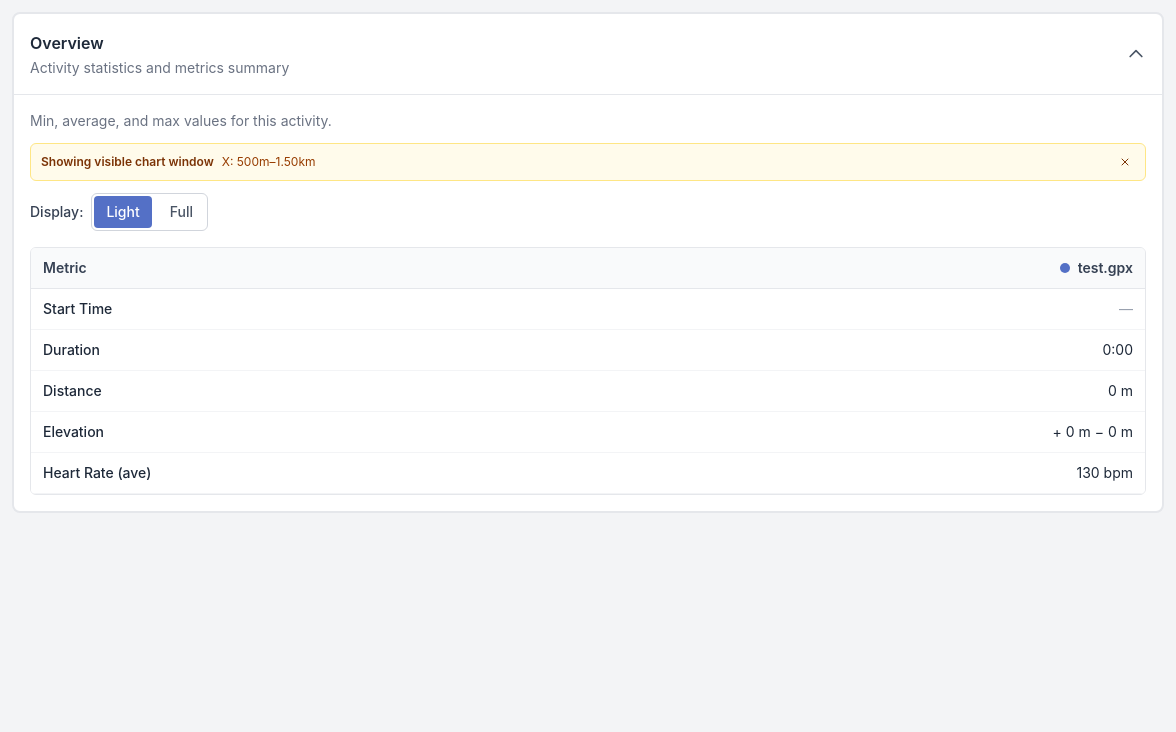
Test: OverviewPanel › chart window display › should allow clearing chart window via clear button
The width and height of the screenshot is (1176, 732).
Click the button named "Clear chart window": x=1125, y=162 [1115,152,1135,172]
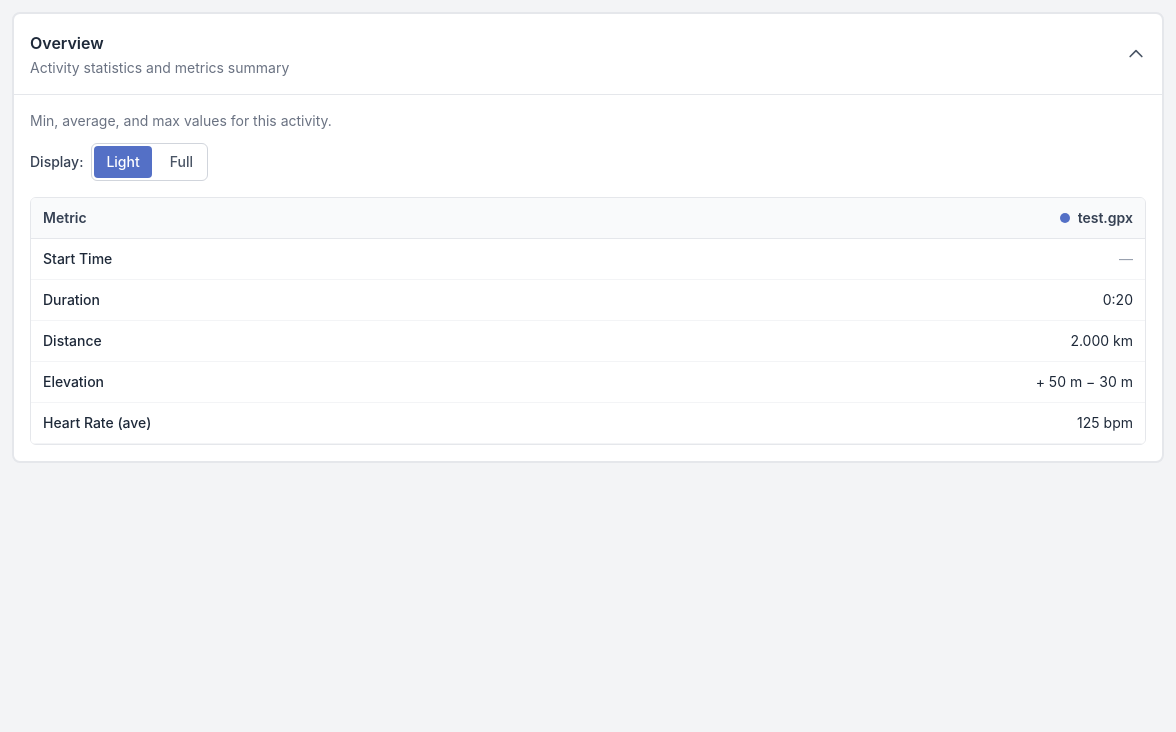
Now the text "Showing visible chart window" is gone
